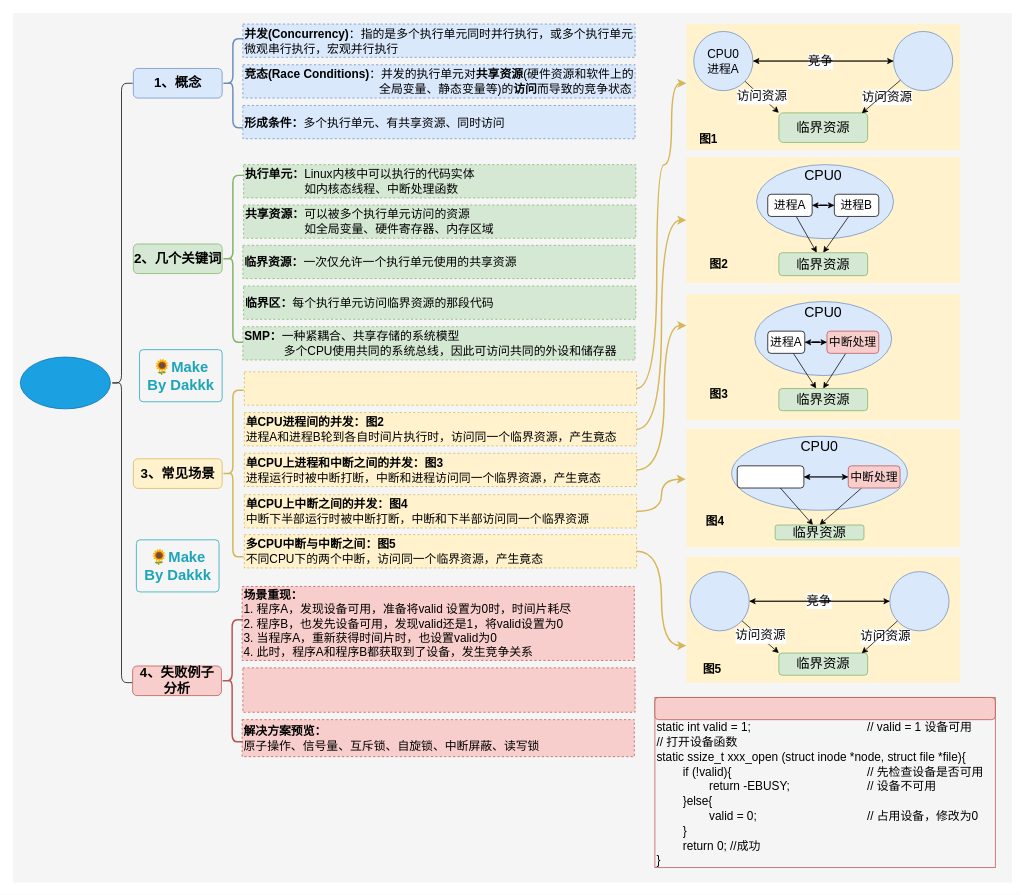
Image size: 1024x895. Some labels were removed from this diagram. Here are the shapes that lost their labels. From the top down, the centre of each, then its label:
At pixel 923 61: "CPU1 进程B".
At pixel 65 382: "并发和竞争".
At pixel 440 388: "多CPU进程与进程之间并发 ：图1 不同CPU上的进程，访问同一个临界资源，产生竟态".
At pixel 770 476: "中断下半部".
At pixel 719 601: "CPU0 中断处理A".
At pixel 919 601: "CPU1 中断处理B".
At pixel 438 689: "本质分析： 1. 检查valid和设置valid两个操作 不是原子的 ！ 2. 涉及valid的代码，也就是临界区，没有任何保护机制".
At pixel 824 708: "经典竟态例子".
